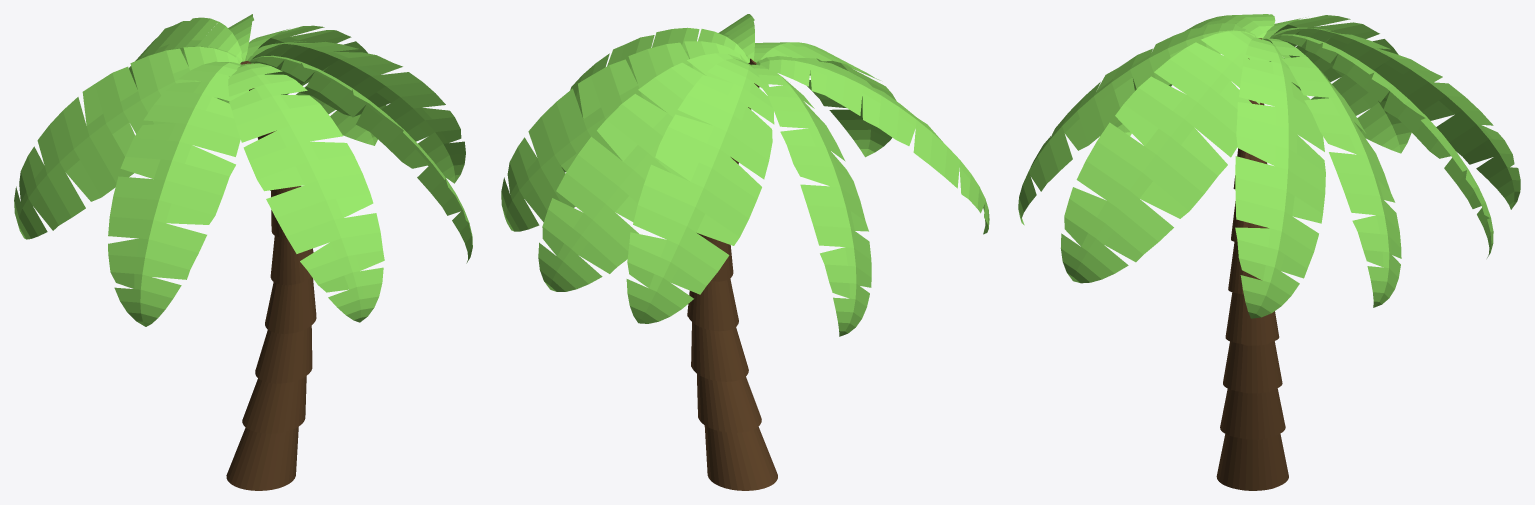
File: palmTree.glb
3 renders of one model, left to right at view 1: azimuth 30°, elevation 25°; view 2: azimuth 150°, elevation 25°; view 3: azimuth 270°, elevation 25°, orthographic. The views are drawn at different scales.
Parts seen in each view (by area): view 1: tree; view 2: tree; view 3: tree.
Part boxes in pixels (x1,y1,x2,y2): tree: (14, 14, 472, 490); tree: (501, 14, 989, 490); tree: (1018, 14, 1520, 490).
Bounding box in the file's own units: 1.99 × 2.08 × 2.12.
